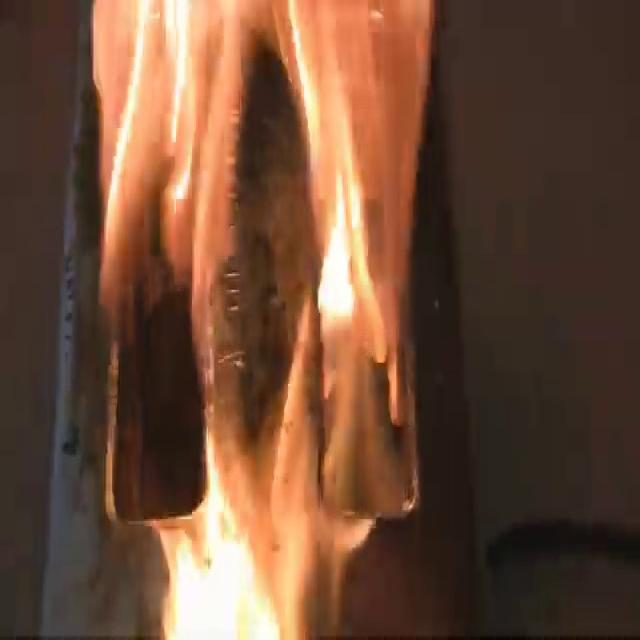fire: (82, 0, 439, 640)
